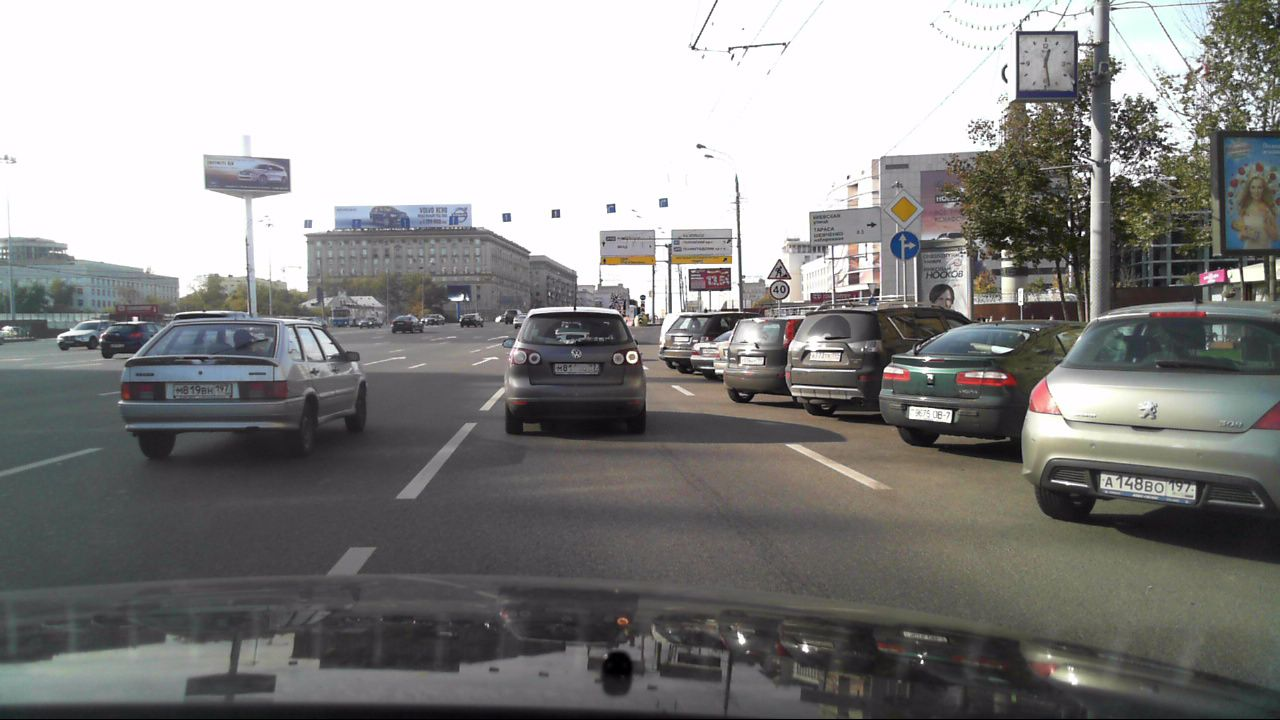speed_warning_40: (769, 279, 790, 300)
